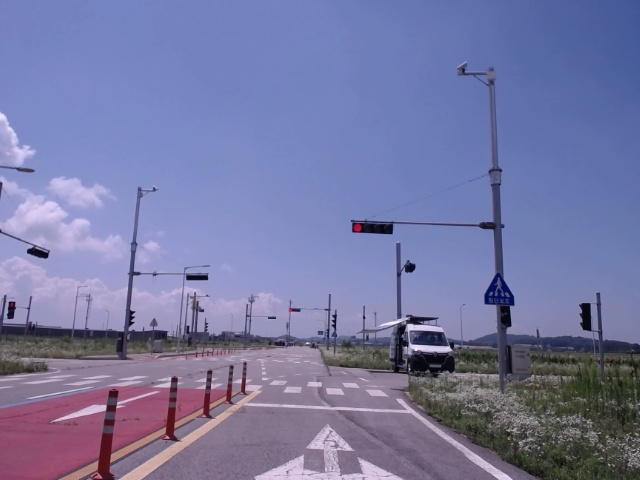red_4: (352, 223, 393, 234)
